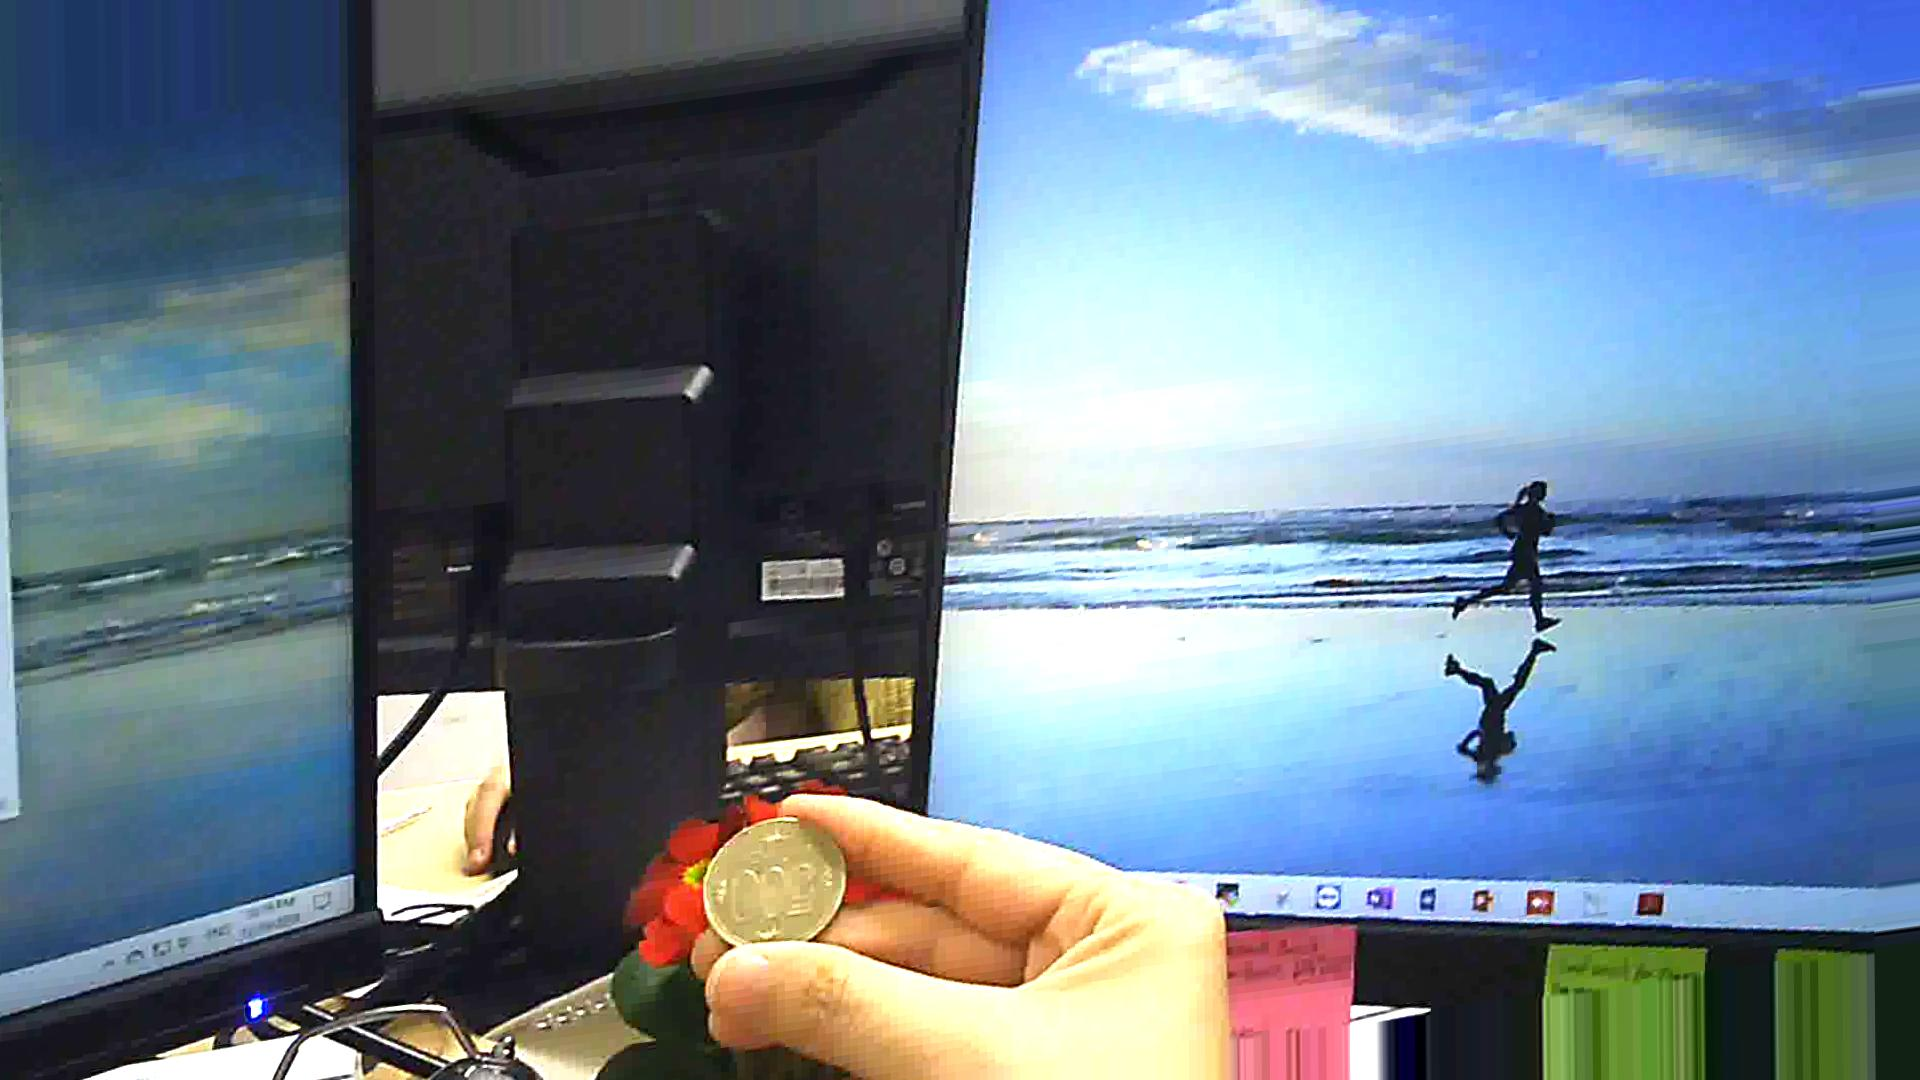500 Yen: (691, 824, 851, 960)
